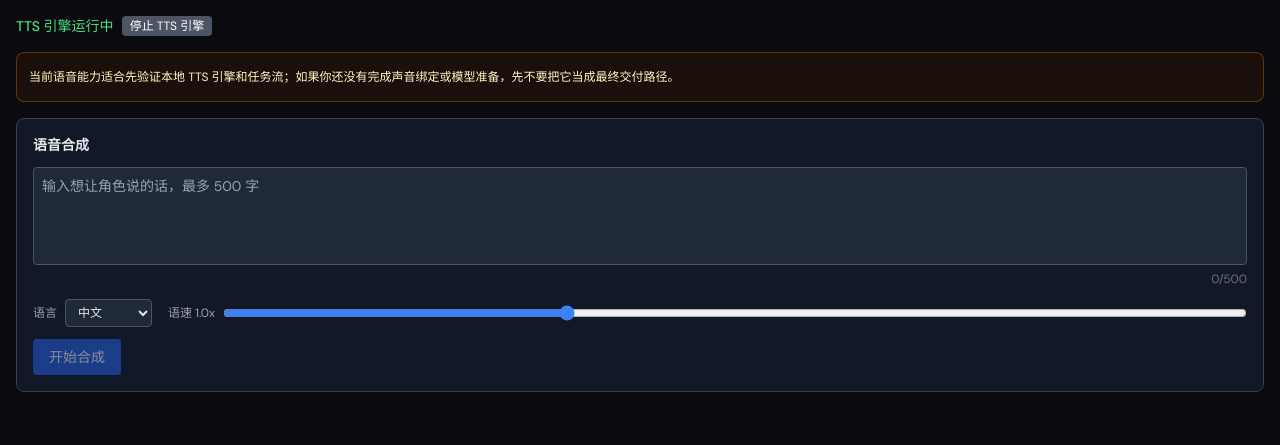
shows unavailable message when synthesizeSpeech API reports feature unavailable
Type "你好" into the text box with placeholder "输入想让角色说的话，最多 500 字" at {"x": 640, "y": 216}, box 33,167 -> 1247,265
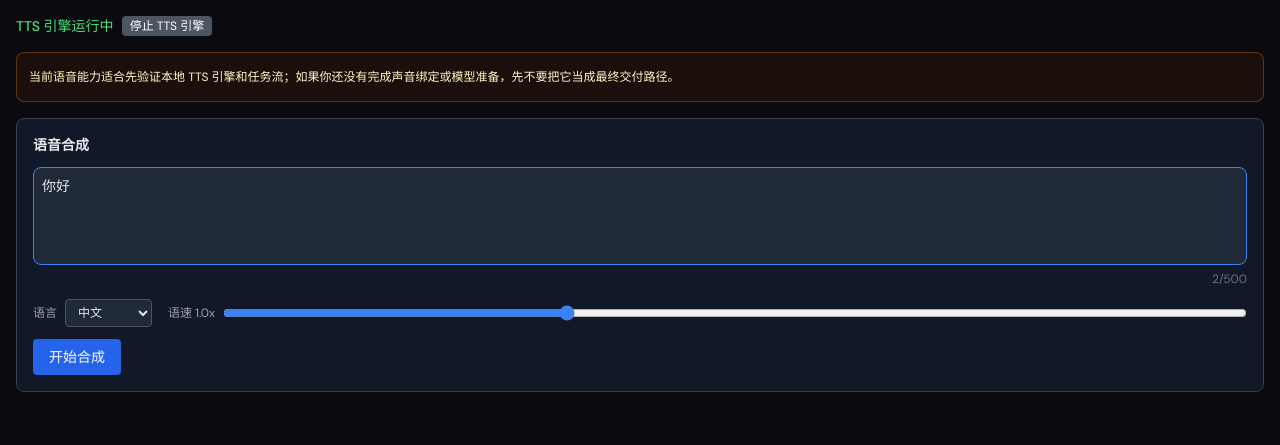
Click the button "开始合成" at {"x": 77, "y": 357}, box 33,339 -> 121,375
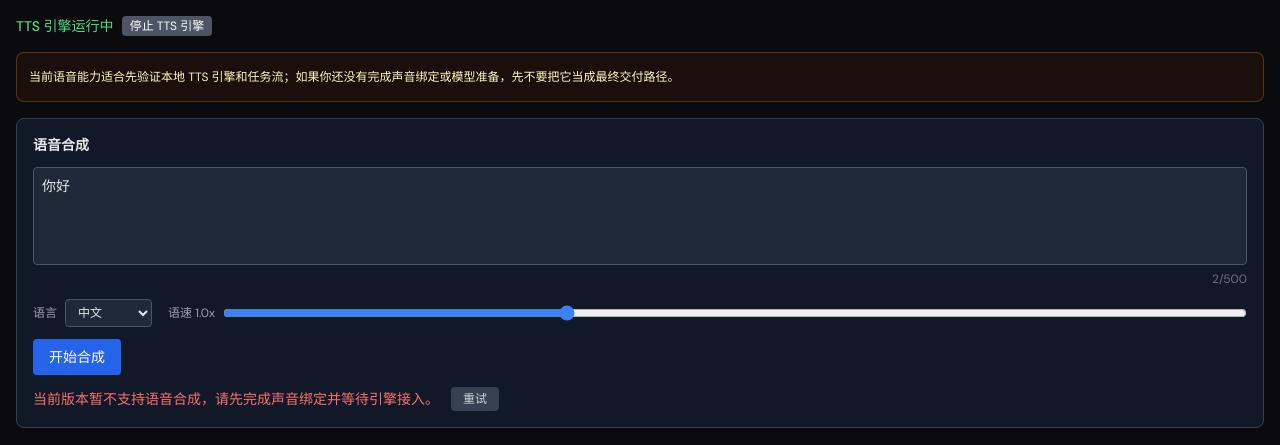
Now the text "当前版本暂不支持语音合成，请先完成声音绑定并等待引擎接入。" is shown, box 33,389 -> 439,409
